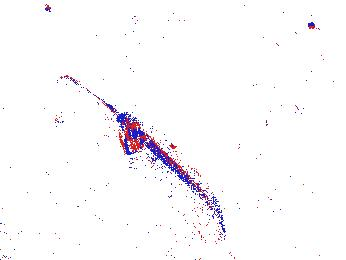glassfish: (115, 117, 238, 260)
